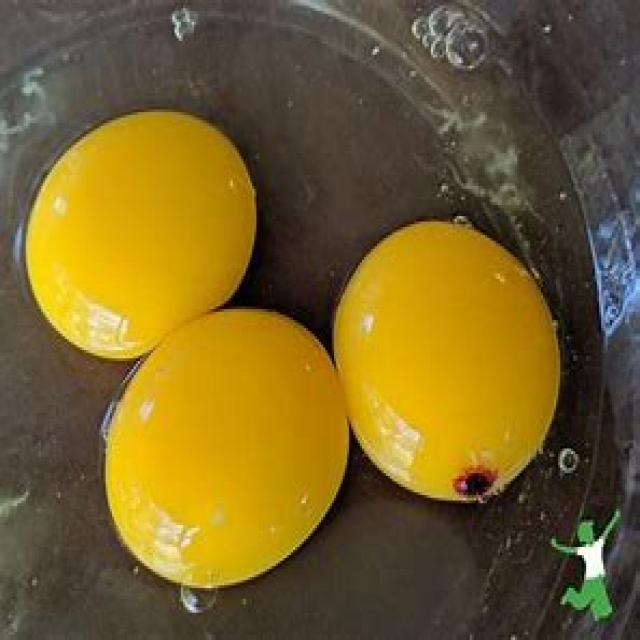Blood Stained Egg: (335, 201, 574, 519)
